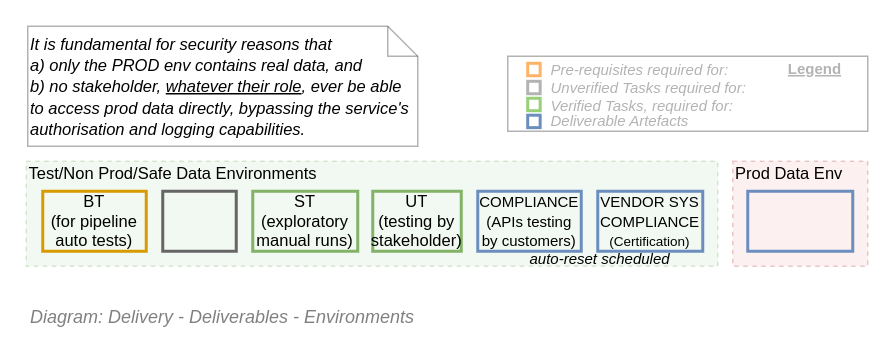
This 894x359 diagram has some shape labels left out. Here are the shapes that lost their labels. From the top down, the centre of each, then its label:
the point at 198,220: DT (for dev checking)
the point at 800,220: PROD (end users)
